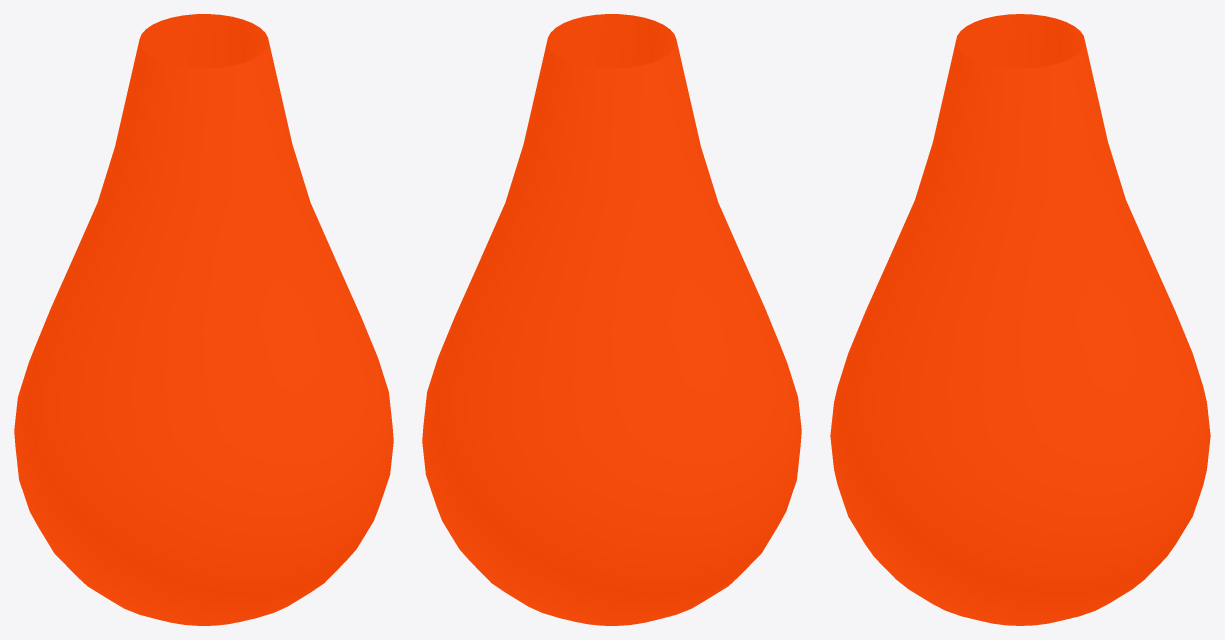
File: flame.glb
3 views of the same model, side by side, from view 1: azimuth 30°, elevation 25°; view 2: azimuth 150°, elevation 25°; view 3: azimuth 270°, elevation 25° (orthographic).
Visible parts, largest first — view 1: Flame; view 2: Flame; view 3: Flame.
Boxes of the visible parts, box(x1,y1,x2,y2) form: Flame: box(14, 14, 393, 625); Flame: box(422, 14, 801, 625); Flame: box(830, 14, 1210, 625).
Size of the model in its own units: 2 by 3.29 by 2.
